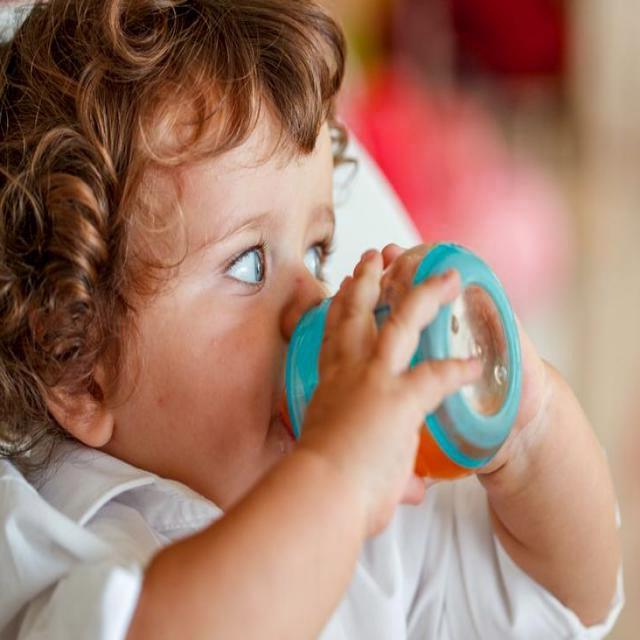child: (0, 3, 622, 639)
